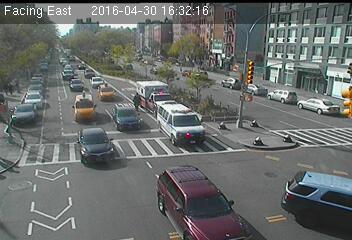neg: (180, 164, 213, 208), (25, 171, 58, 215), (289, 63, 319, 102), (263, 173, 292, 212), (66, 144, 92, 179), (28, 109, 53, 142), (128, 160, 152, 193), (160, 98, 183, 129), (66, 82, 89, 112), (50, 35, 72, 65), (246, 65, 265, 90), (97, 46, 116, 71), (210, 29, 229, 54), (306, 146, 324, 170), (280, 127, 297, 150), (251, 127, 267, 149), (174, 69, 188, 88)
pos: (127, 89, 146, 115)
